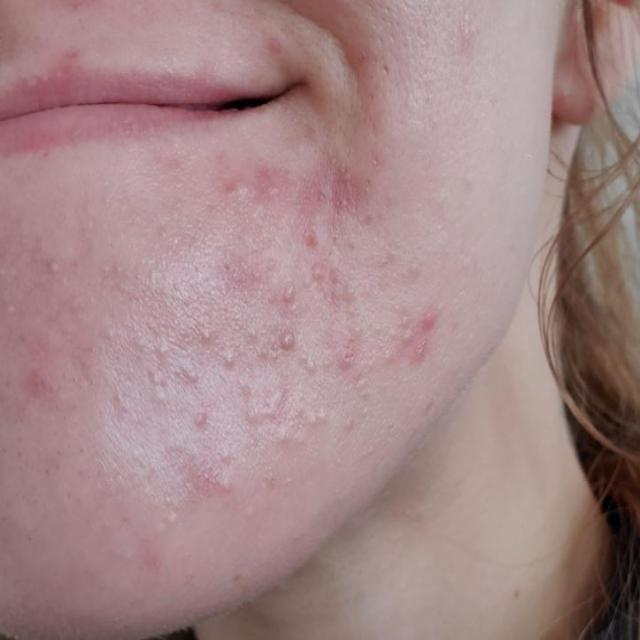fungal: (78, 172, 438, 518)
